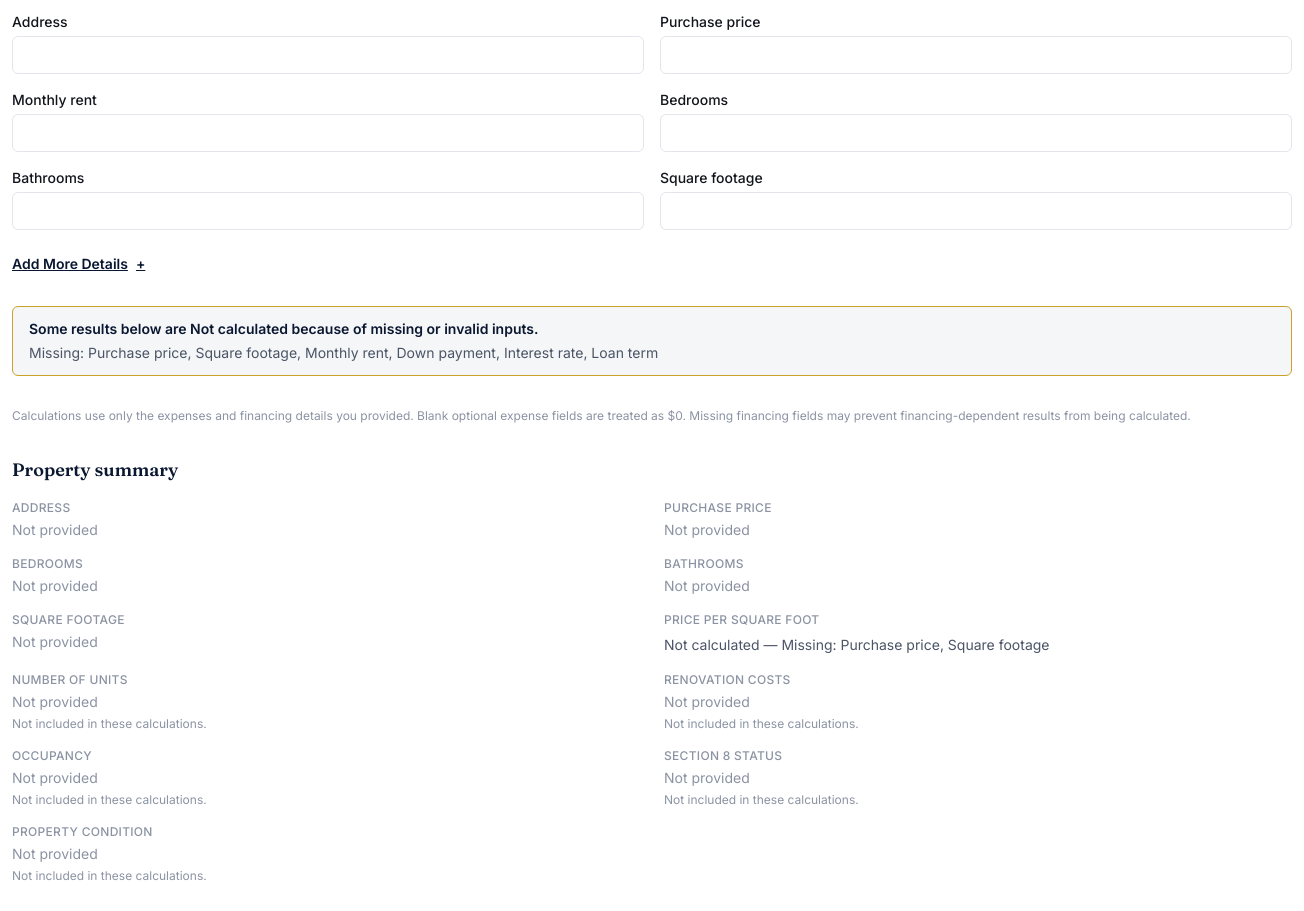
Scenario: ManualDealEntryForm — Add More Details disclosure › reveals optional fields when activated and hides them again when toggled back
The image size is (1304, 911).
Click the button "Add More Details +": (79, 264) [12,254,145,274]
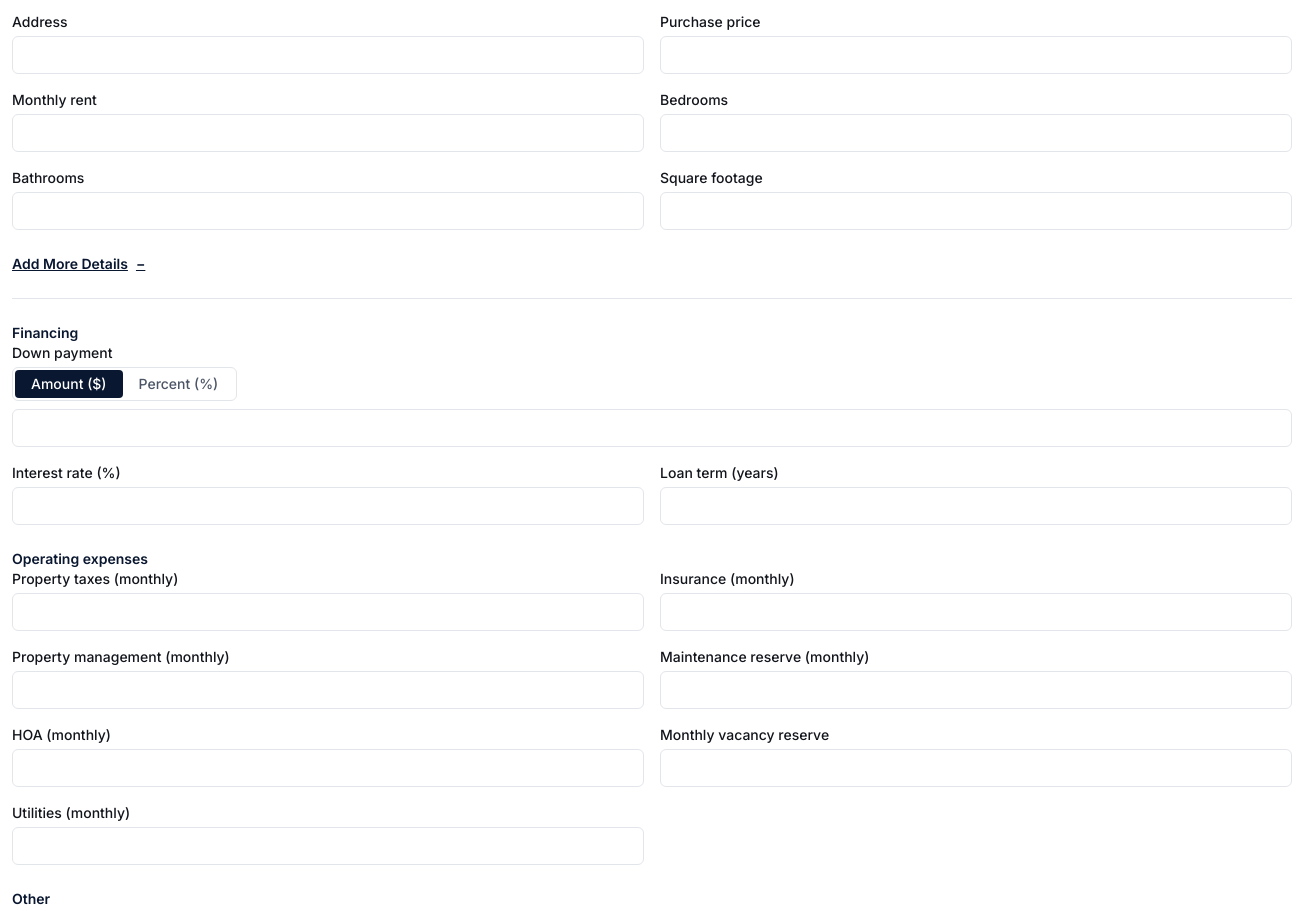
Check: the button "Add More Details −" is expanded
Check: the number field named "Down payment" is shown, box [12,409,1292,447]
Check: the number field labelled "Interest rate (%)" is shown, box [12,487,644,525]
Click the button "Add More Details −": (79, 264) [12,254,145,274]
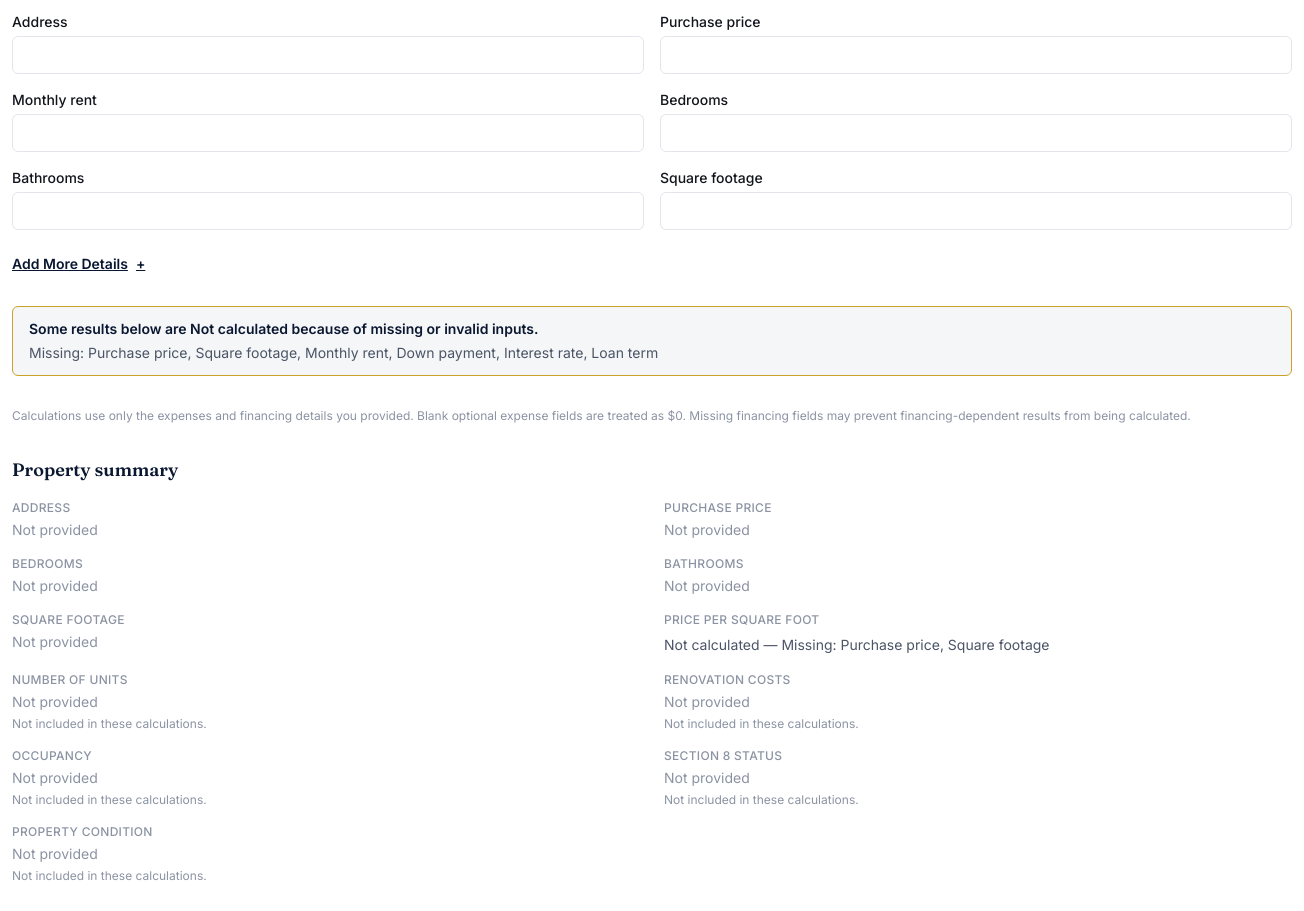
Check: the button "Add More Details +" is collapsed, box [12,254,145,274]
